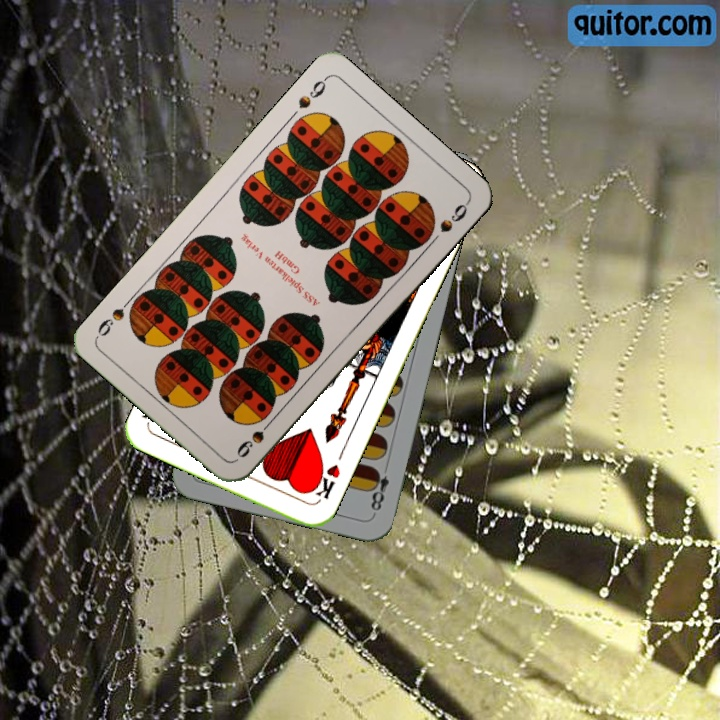E8: (365, 459, 392, 517)
HK: (306, 460, 343, 505)
S9: (232, 413, 277, 461), (294, 73, 330, 112)
